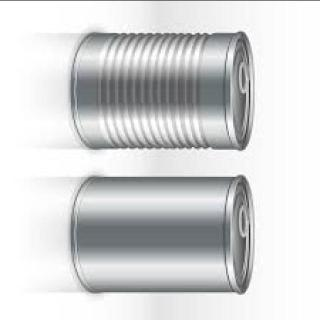Anorganik: (65, 22, 262, 160), (68, 166, 264, 298)
